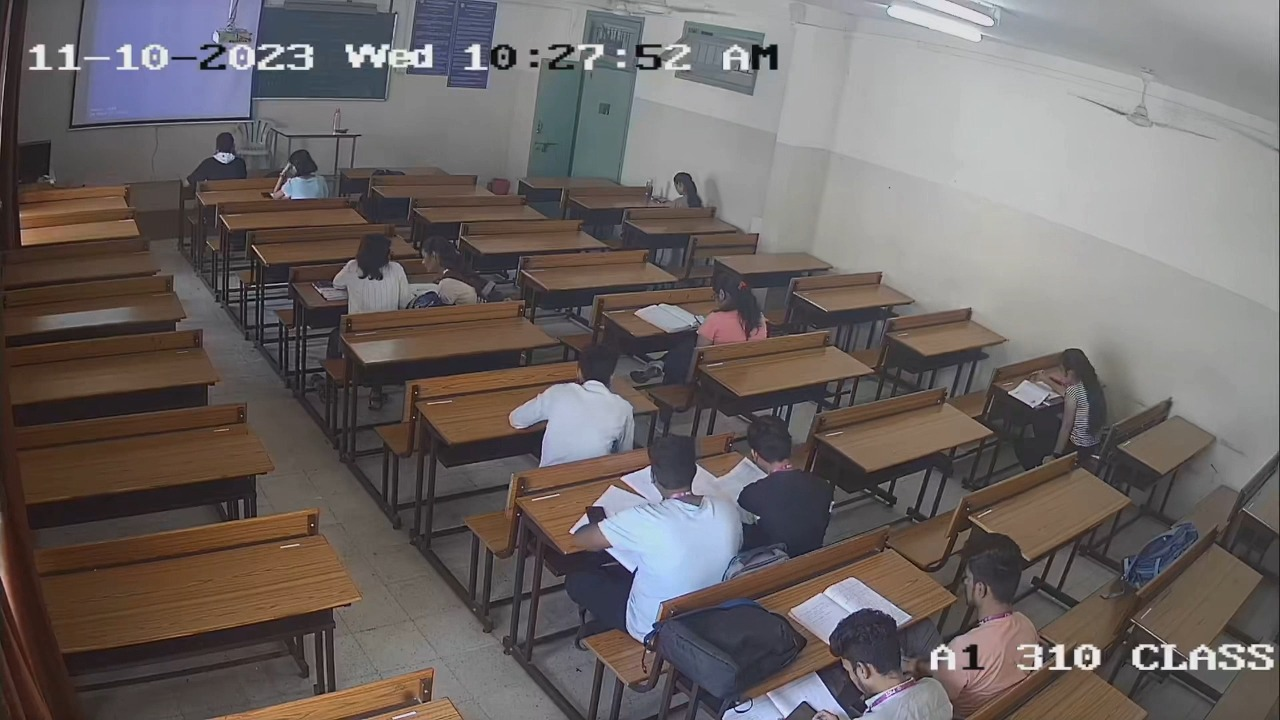cell-phones: (668, 172, 704, 208), (778, 698, 821, 720), (584, 502, 608, 526), (651, 196, 670, 205), (693, 313, 707, 325), (259, 189, 273, 198)
person: (583, 432, 748, 585), (823, 607, 956, 720), (691, 268, 768, 350), (268, 148, 329, 198)
